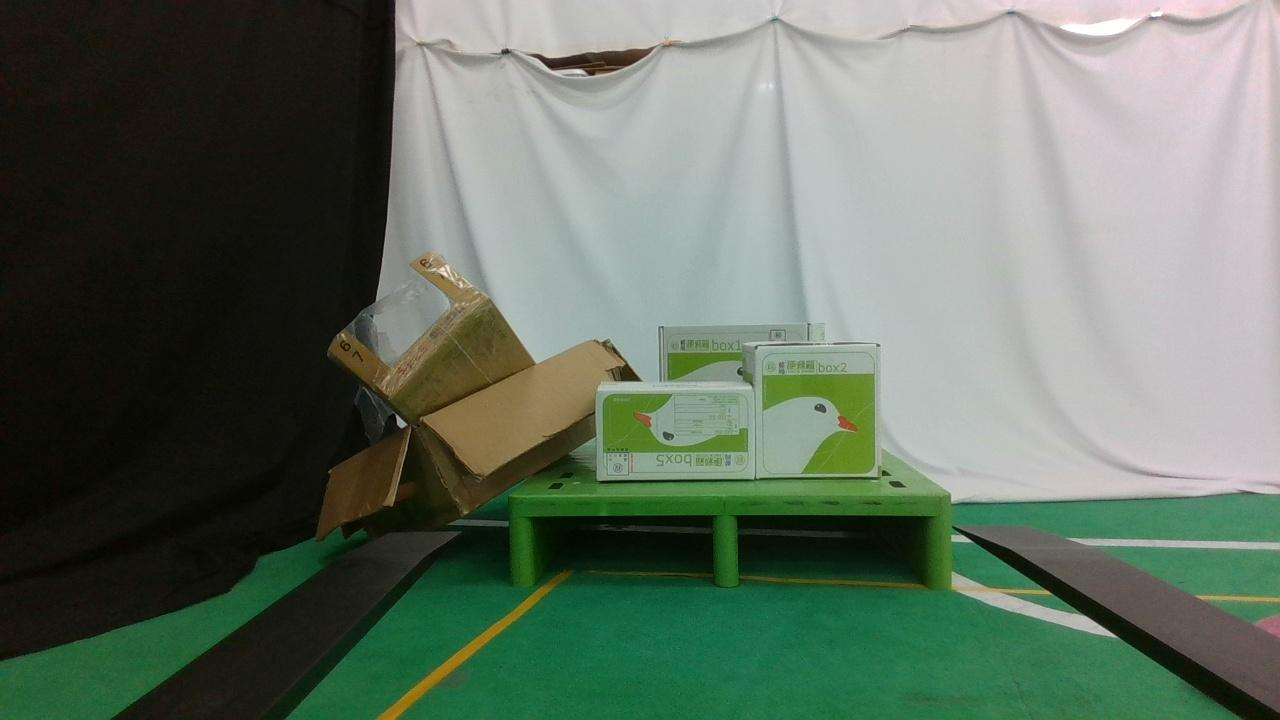Pallet: (508, 493, 952, 590)
